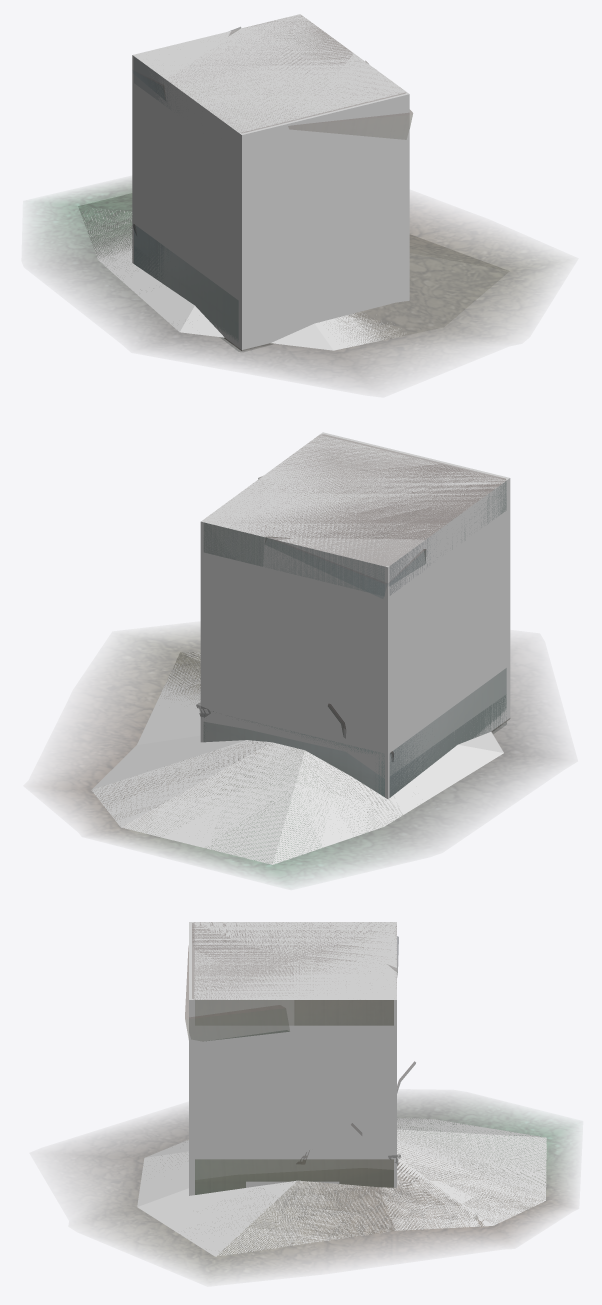
The model's file is source.glb.
The picture shows the model from 3 angles, top to bottom: view 1: azimuth 30°, elevation 25°; view 2: azimuth 150°, elevation 25°; view 3: azimuth 270°, elevation 25°; orthographic projection. The views are drawn at different scales.
Parts seen in each view (by area): view 1: coll_m206_0, state1_obj_f1b000, state1_coll_m206_0, state2_obj_f26da0, state1_coll_m10a_0, state1_obj_f1c2f0, state1_obj_f1ca60, obj_f16f80; view 2: coll_m206_0, state1_coll_m10a_0, state1_coll_m206_0, state1_obj_f1b000, state2_obj_f26da0, obj_f16d90, state1_obj_f1ca60, state1_obj_f1c2f0, state2_obj_f271b0, obj_f16f80; view 3: coll_m206_0, state1_coll_m10a_0, state1_obj_f1b000, state2_obj_f26da0, obj_f16f80, state1_coll_m206_0, state1_obj_f1ca60, state1_obj_f1c2f0, state2_obj_f271b0, obj_f16d90.
Part boxes in pixels (bbox=[...]): coll_m206_0: bbox=[132, 14, 409, 350]; state1_obj_f1b000: bbox=[51, 185, 542, 372]; state1_coll_m206_0: bbox=[132, 15, 408, 350]; state2_obj_f26da0: bbox=[59, 187, 531, 365]; state1_coll_m10a_0: bbox=[78, 193, 509, 350]; state1_obj_f1c2f0: bbox=[134, 225, 238, 339]; state1_obj_f1ca60: bbox=[132, 22, 412, 139]; obj_f16f80: bbox=[134, 57, 167, 276]; coll_m206_0: bbox=[200, 432, 510, 798]; state1_coll_m10a_0: bbox=[91, 652, 503, 864]; state1_coll_m206_0: bbox=[202, 433, 508, 795]; state1_obj_f1b000: bbox=[59, 636, 538, 876]; state2_obj_f26da0: bbox=[69, 641, 527, 872]; obj_f16d90: bbox=[261, 434, 505, 566]; state1_obj_f1ca60: bbox=[204, 464, 506, 598]; state1_obj_f1c2f0: bbox=[358, 668, 506, 796]; state2_obj_f271b0: bbox=[204, 697, 506, 796]; obj_f16f80: bbox=[204, 533, 427, 796]; coll_m206_0: bbox=[189, 922, 396, 1195]; state1_coll_m10a_0: bbox=[137, 1118, 546, 1256]; state1_obj_f1b000: bbox=[90, 1105, 563, 1270]; state2_obj_f26da0: bbox=[107, 1109, 558, 1266]; obj_f16f80: bbox=[195, 1000, 393, 1194]; state1_coll_m206_0: bbox=[189, 922, 396, 999]; state1_obj_f1ca60: bbox=[185, 923, 398, 1041]; state1_obj_f1c2f0: bbox=[195, 1159, 393, 1194]; state2_obj_f271b0: bbox=[195, 1061, 415, 1194]; obj_f16d90: bbox=[192, 923, 396, 999].
Bounding box in the file's own units: 387 × 184 × 451.
Materials: 13 (13 with a texture image).
